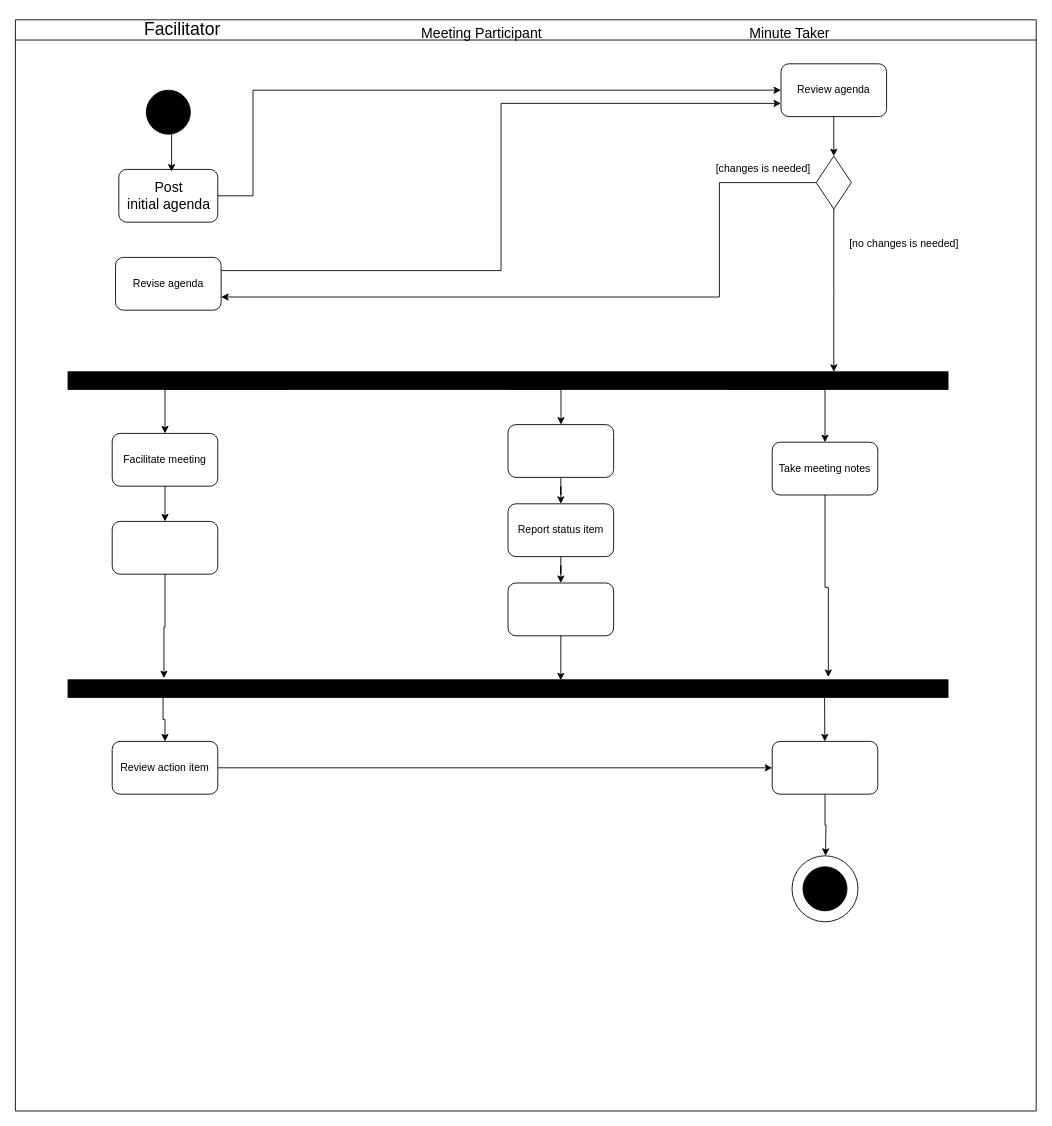
Image size: 1052x1126. Some labels were removed from this diagram. The shapes that lost their labels are listed below. From the top down, each one's centre as x and y in pixels, then its label:
At [560,450]: "Agree on agenda".
At [164,547]: "End meeting".
At [560,609]: "Discuss and resolve issue".
At [824,767]: "Post minutes".
